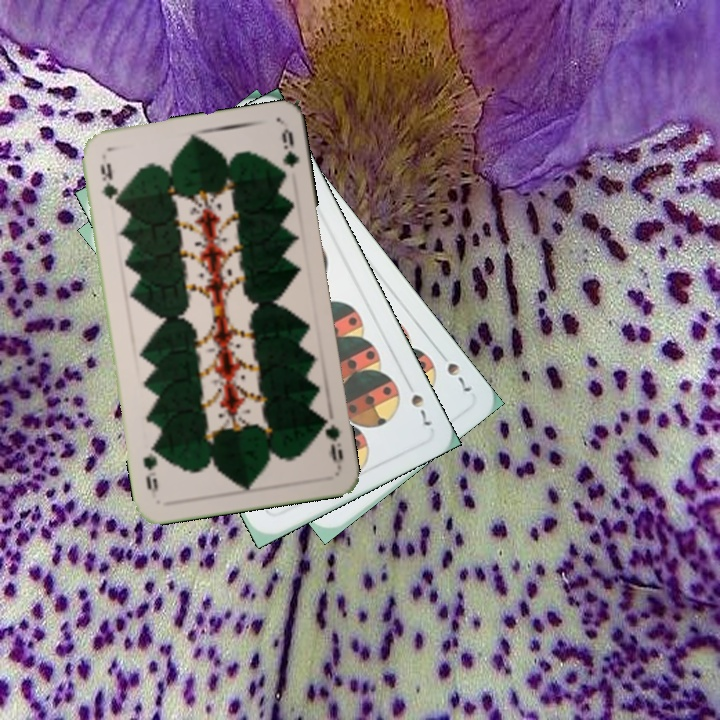G9: (316, 412, 346, 470), (96, 159, 121, 211)
S7: (401, 375, 434, 429), (442, 358, 474, 395)
